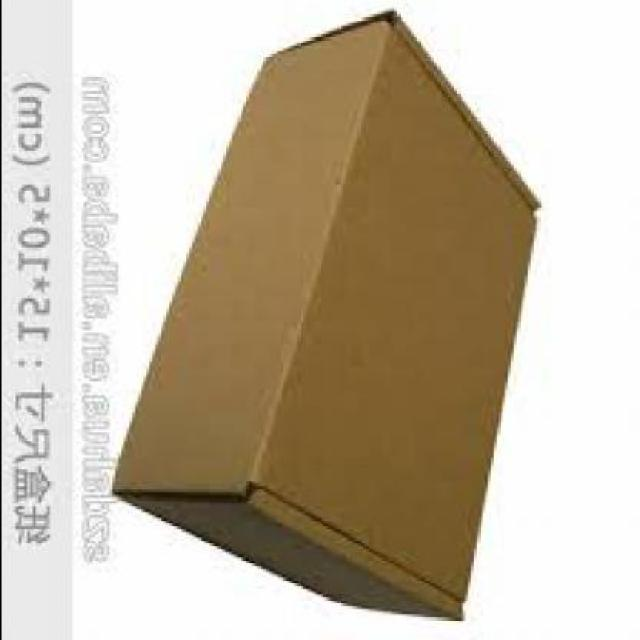CARDBOARD: (111, 14, 543, 623)
